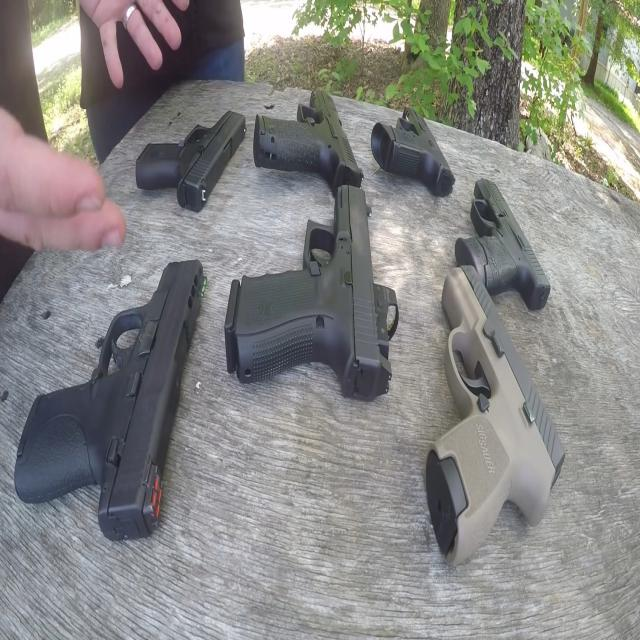handgun: (17, 246, 223, 504), (432, 259, 567, 569), (225, 188, 399, 384), (240, 62, 380, 201), (133, 96, 256, 228), (456, 162, 546, 314), (371, 90, 462, 208)
